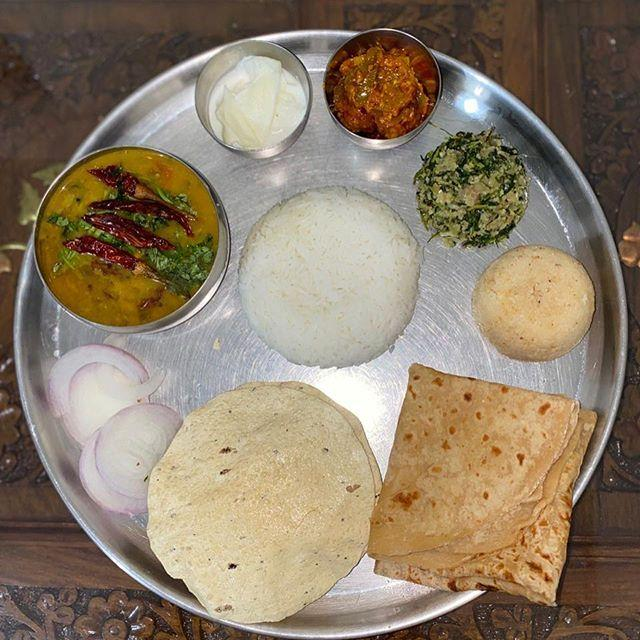Roti: (374, 366, 586, 600)
White Rice: (238, 185, 430, 371)
